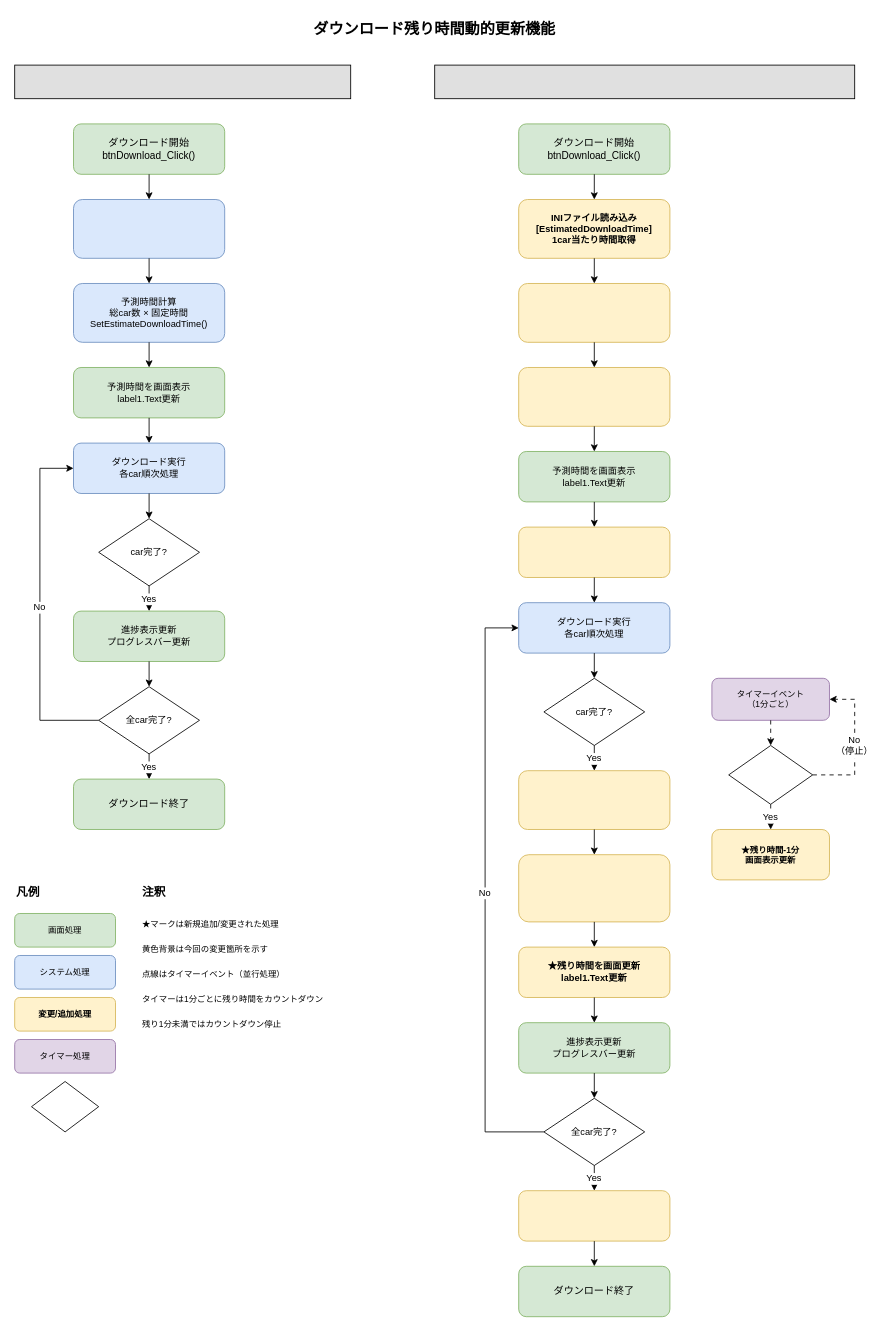
This 889x1331 diagram has some shape labels left out. The centre of each missing label's shape, as x and y in pixels:
INIファイル読み込み [Timer]セクション 総ダウンロード時間取得: pixel 149 228
★1分カウントダウン タイマー開始: pixel 594 552
★完了car記録リスト初期化 開始時刻記録 タイマー初期化: pixel 594 396
★実測時間を記録 CarDownloadTimeInfo 生成・リスト追加: pixel 594 800
★残り時間を0に設定 タイマー停止: pixel 594 1215
★残り時間再計算 平均時間 × 残りcar数 分単位切り上げ（最小1分）: pixel 594 888
予測時間計算 総car数 × 1car当たり時間 SetEstimateDownloadTime(): pixel 594 312
修正前: pixel 182 81
修正後: pixel 644 81
判定: pixel 65 1106
残り時間 > 1分?: pixel 770 774
